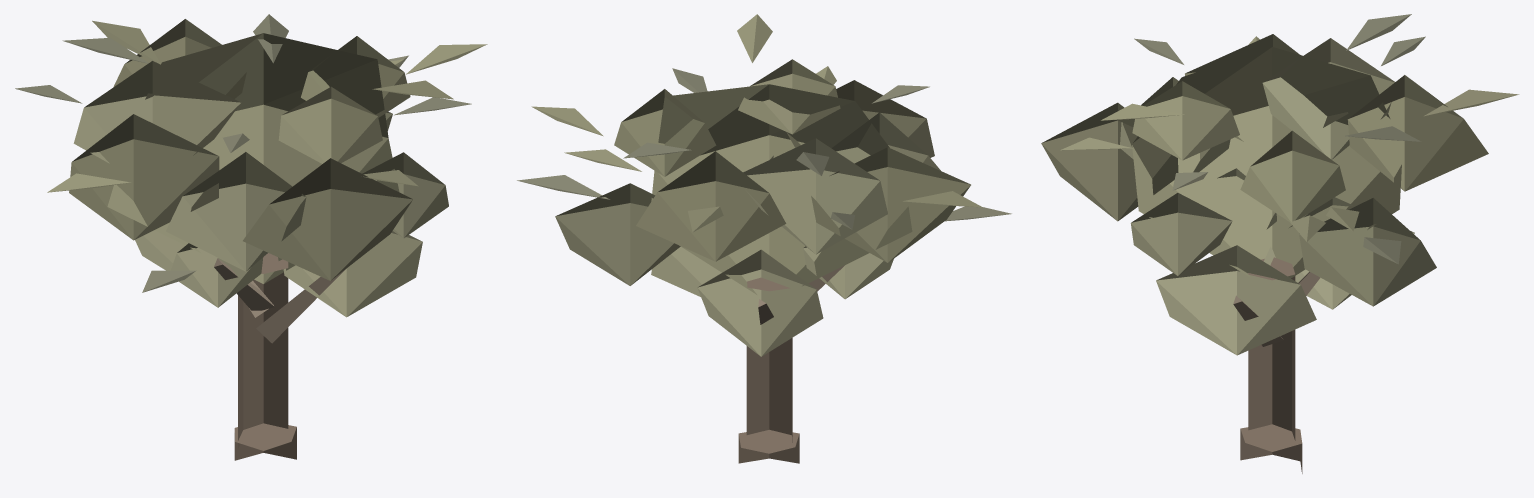
Rendered from shu.gaoshan@subadult__winter.glb.
3 views of the same model, side by side, from view 1: azimuth 30°, elevation 25°; view 2: azimuth 150°, elevation 25°; view 3: azimuth 270°, elevation 25° (orthographic). The views are drawn at different scales.
Parts seen in each view (by area): view 1: shu.gaoshan@subadult__winter; view 2: shu.gaoshan@subadult__winter; view 3: shu.gaoshan@subadult__winter.
Boxes of the visible parts, left/top/right/bottom form: shu.gaoshan@subadult__winter: left=15, top=14, right=487, bottom=460; shu.gaoshan@subadult__winter: left=517, top=14, right=1011, bottom=463; shu.gaoshan@subadult__winter: left=1041, top=14, right=1519, bottom=473.
Bounding box in the file's own units: 8.49 × 7.2 × 7.78.
